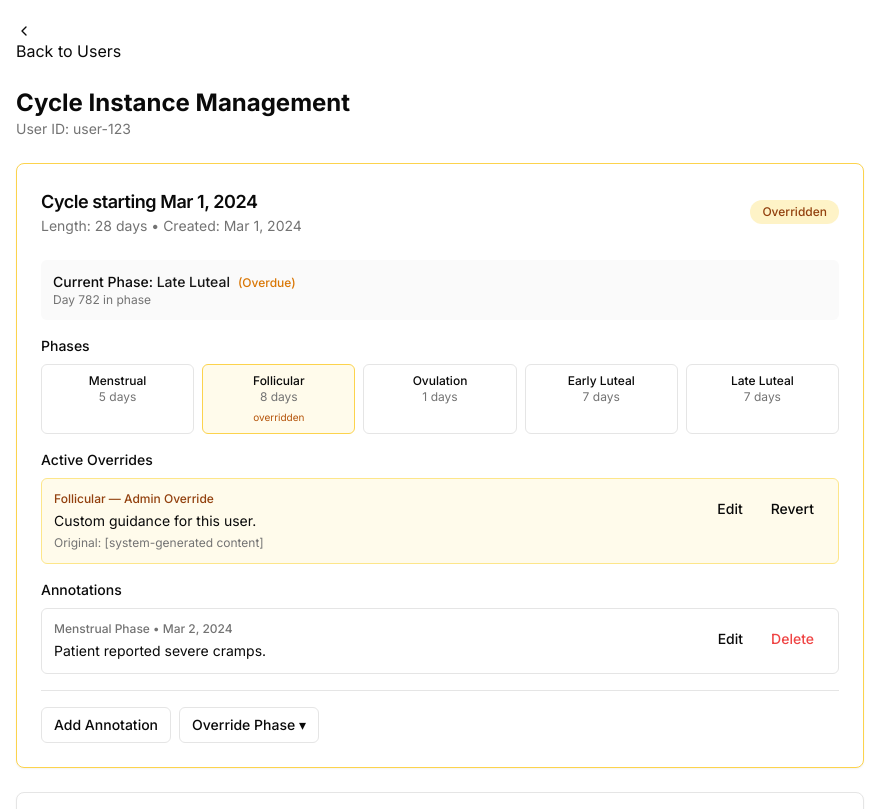
Test: AdminCycleManagementPage › opens annotation form when Add Annotation is clicked (Requirement 6.3)
What coordinates should you click on to do the following:
click the button with test id "add-annotation-cycle-1"
I would click on:
 (106, 725)
Its box is [41,707,171,743].
(page scrolled)
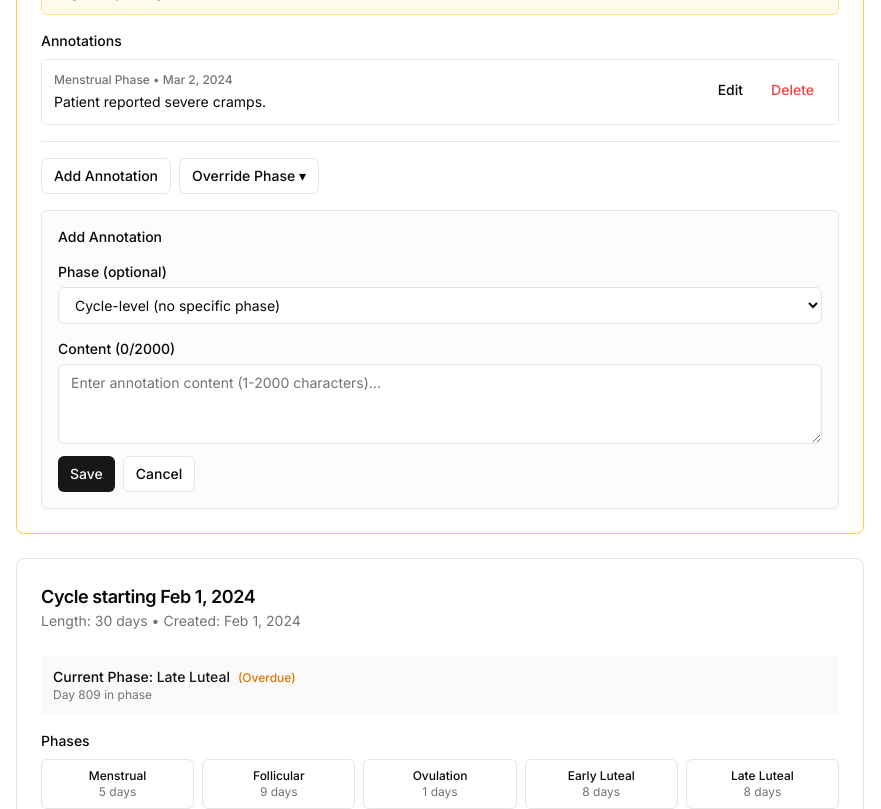
Result: the element with test id "annotation-form" is shown at [41,210,839,509]
Result: the text box with placeholder "Enter annotation content (1-2000 characters)..." is shown at [58,364,822,444]
